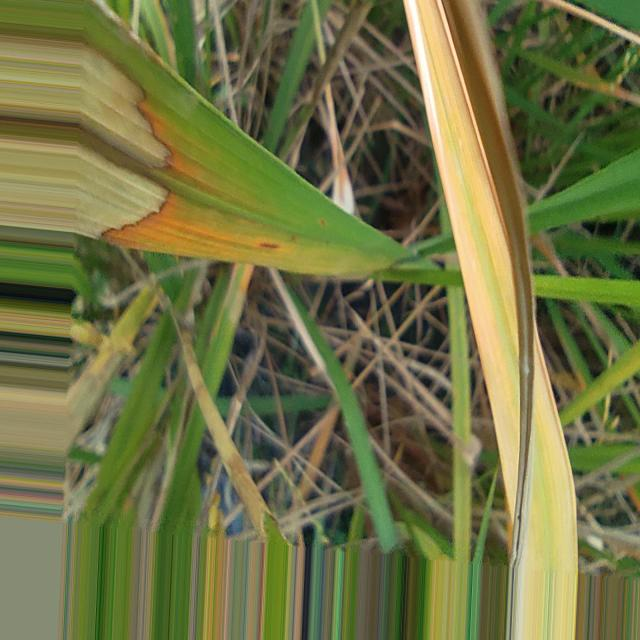Brown_Spot: (255, 235, 286, 253), (318, 218, 328, 227)
Leaf_Blast: (405, 0, 578, 638)
Rice False Smut: (80, 47, 169, 168), (76, 145, 168, 238)
